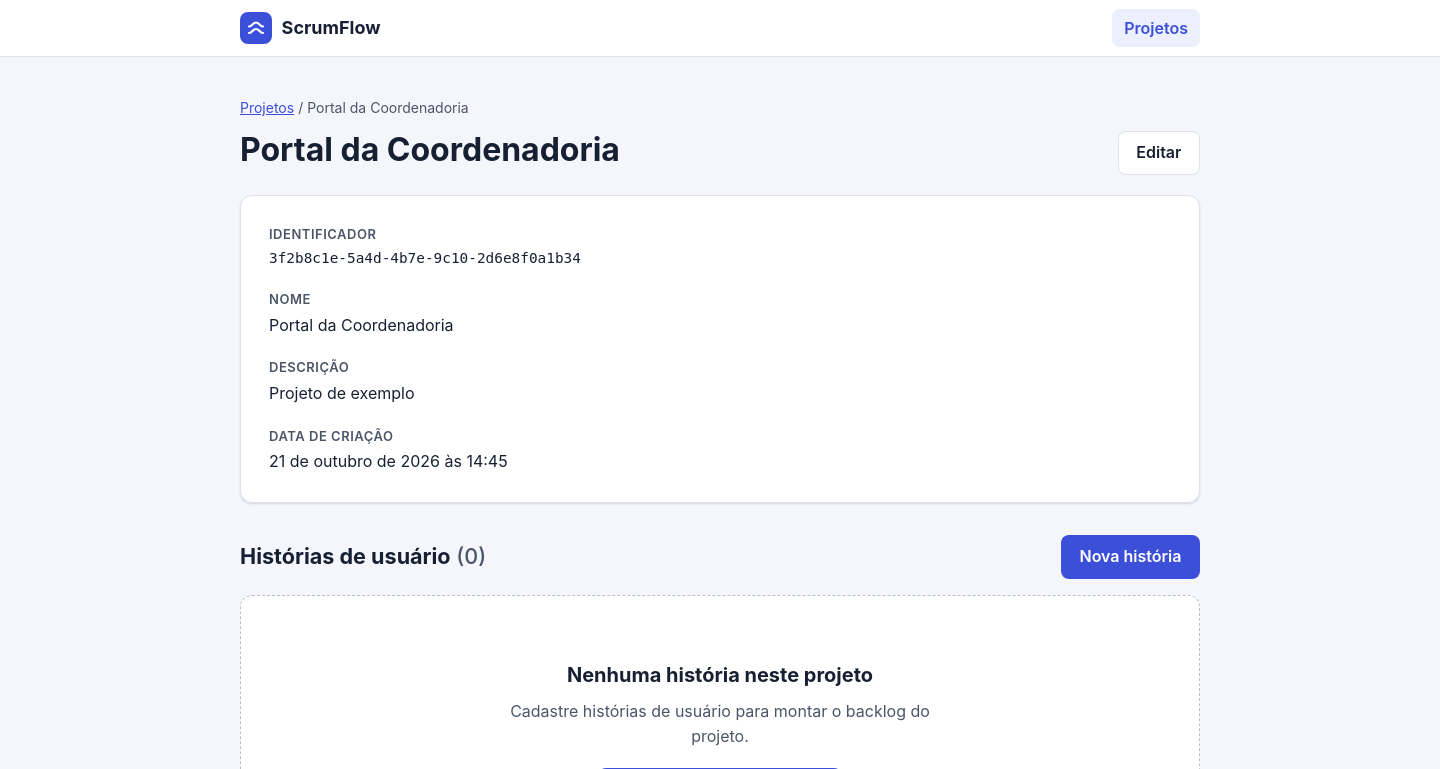
Scenario: Formulário: critérios de aceitação dinâmicos › começa com um critério e não permite remover o último
This screenshot has width=1440, height=769.
Click the button "Nova história": coordinates (1130, 557) top-left (1061, 535), bottom-right (1200, 579)
(page scrolled)
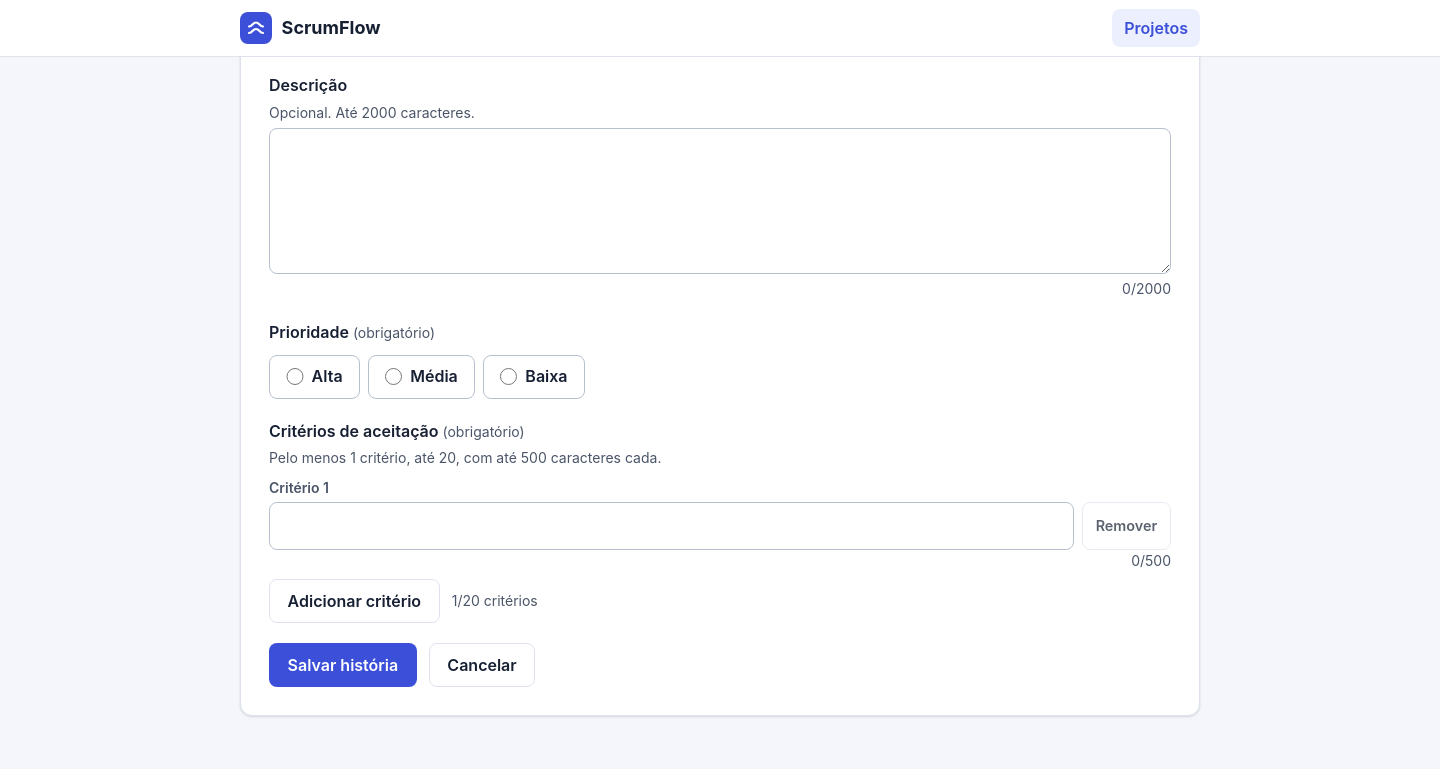
Now the number of fields labelled "Critério 1" is 1, box top-left (269, 502), bottom-right (1074, 550)
Now the button named "Remover critério 1" is disabled, box top-left (1082, 502), bottom-right (1171, 550)
Now the text "1/20 critérios" is shown, box top-left (452, 590), bottom-right (538, 612)
